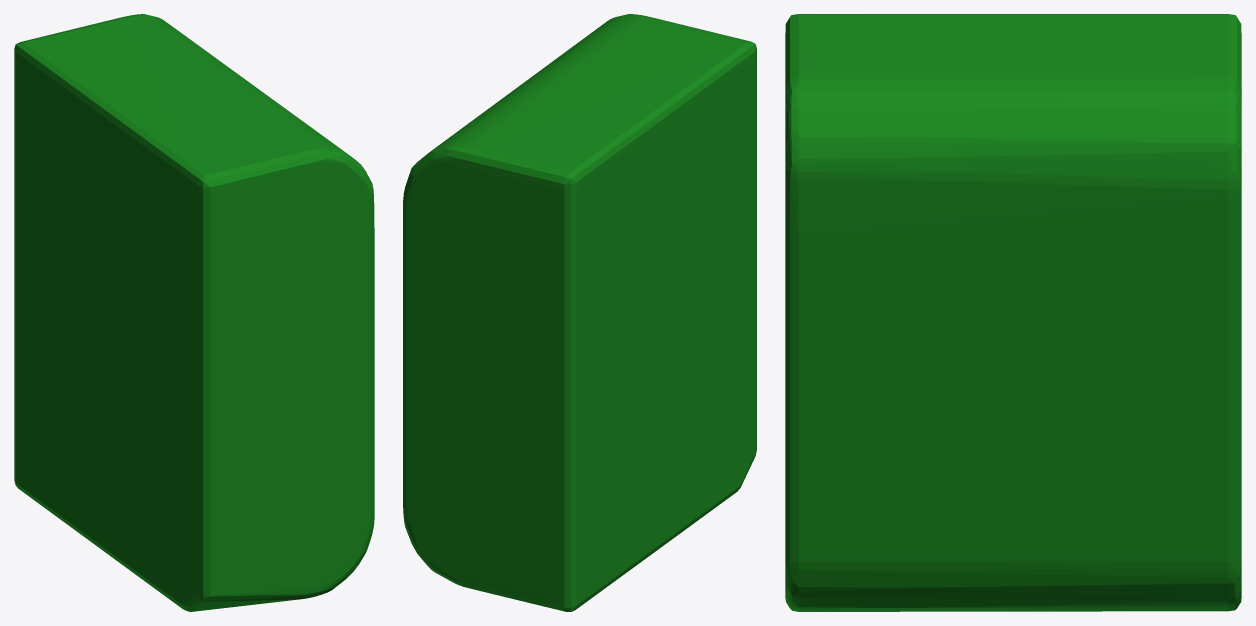
The model's file is left_lf_metacarpal_part_8.obj.
3 renders of one model, left to right at view 1: azimuth 30°, elevation 25°; view 2: azimuth 150°, elevation 25°; view 3: azimuth 270°, elevation 25°, orthographic. The views are drawn at different scales.
Size of the model in its own units: 9.22 by 22.41 by 17.53.
